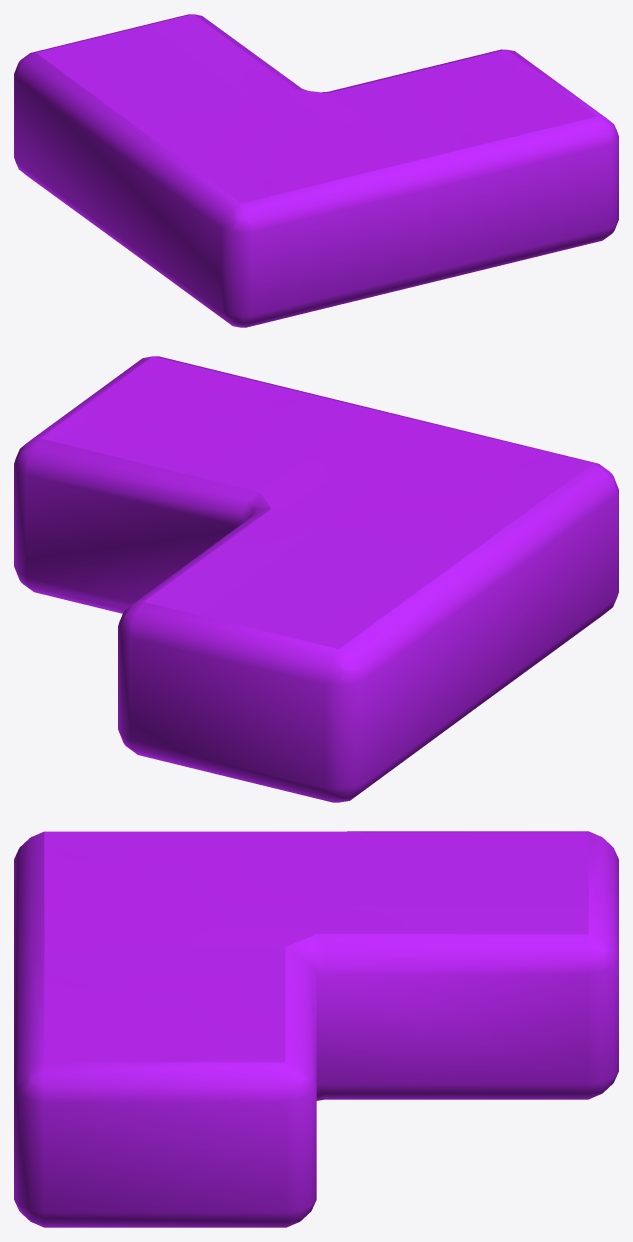
The model's file is LBlockPink.fbx.
3 renders of one model, top to bottom at view 1: azimuth 30°, elevation 25°; view 2: azimuth 150°, elevation 25°; view 3: azimuth 270°, elevation 25°, orthographic. The views are drawn at different scales.
Parts seen in each view (by area): view 1: LBlock; view 2: LBlock; view 3: LBlock.
Part boxes in pixels (x1,y1,x2,y2): LBlock: (14, 14, 618, 327); LBlock: (14, 356, 618, 802); LBlock: (14, 831, 618, 1227).
Size of the model in its own units: 4 by 1.2 by 4.
